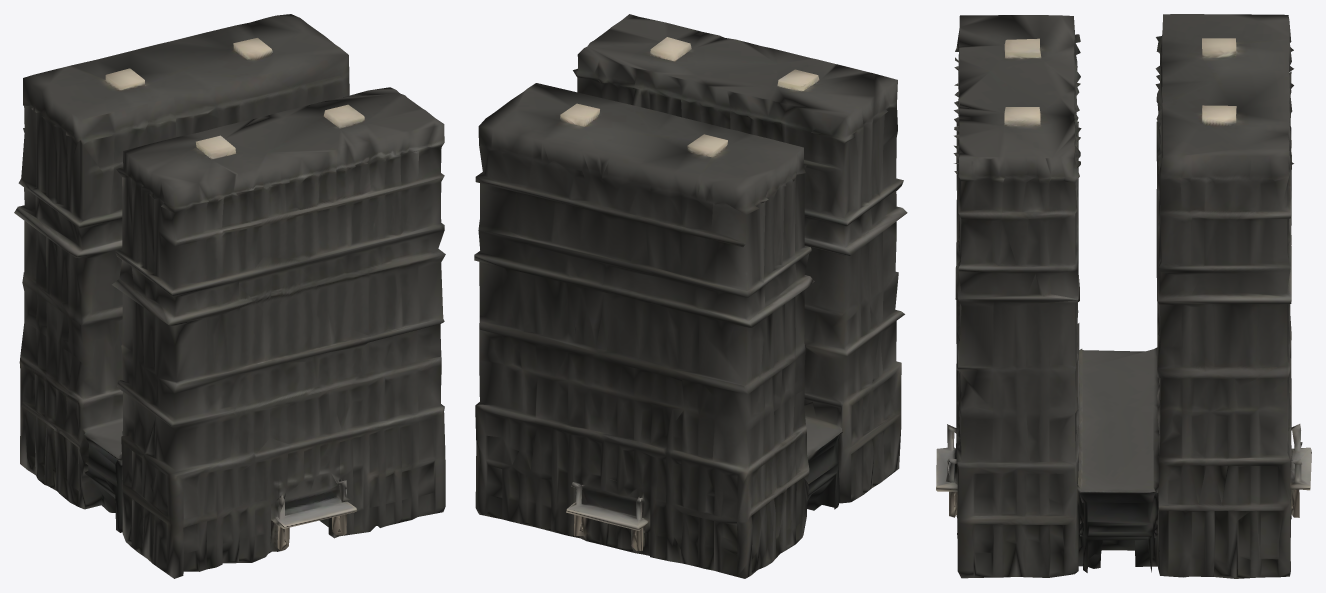
Rendered from office-block.glb.
3 renders of one model, left to right at view 1: azimuth 30°, elevation 25°; view 2: azimuth 150°, elevation 25°; view 3: azimuth 270°, elevation 25°, orthographic. The views are drawn at different scales.
Visible parts, largest first — view 1: tripo_node_bfb889a7-9526-4dbb-b899-192a937c71fc; view 2: tripo_node_bfb889a7-9526-4dbb-b899-192a937c71fc; view 3: tripo_node_bfb889a7-9526-4dbb-b899-192a937c71fc.
Boxes of the visible parts, box(x1,y1,x2,y2) form: tripo_node_bfb889a7-9526-4dbb-b899-192a937c71fc: box(14, 14, 445, 578); tripo_node_bfb889a7-9526-4dbb-b899-192a937c71fc: box(474, 14, 907, 578); tripo_node_bfb889a7-9526-4dbb-b899-192a937c71fc: box(936, 14, 1311, 578).
Size of the model in its own units: 22 by 29.54 by 23.36.
1 material, 1 textured.
